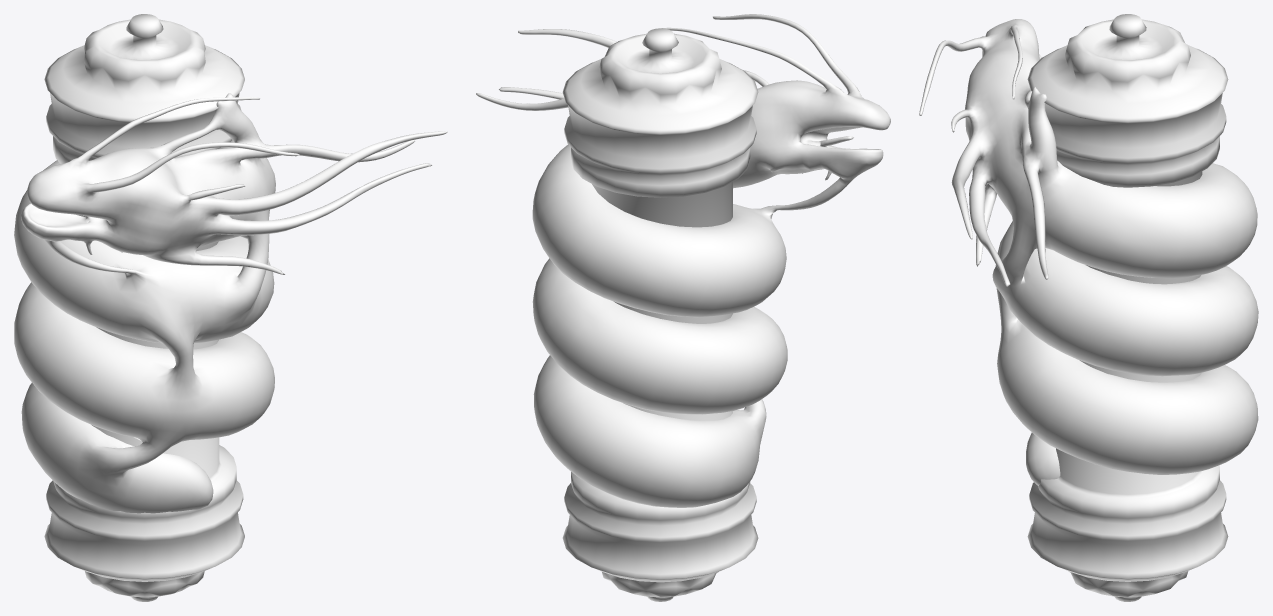
The model's file is doragon.obj.
3 renders of one model, left to right at view 1: azimuth 30°, elevation 25°; view 2: azimuth 150°, elevation 25°; view 3: azimuth 270°, elevation 25°, orthographic. The views are drawn at different scales.
Parts seen in each view (by area): view 1: Drugon.001; view 2: Drugon.001; view 3: Drugon.001.
Boxes of the visible parts, left/top/right/bottom form: Drugon.001: left=14, top=14, right=447, bottom=601; Drugon.001: left=476, top=14, right=890, bottom=601; Drugon.001: left=919, top=14, right=1258, bottom=601.
Bounding box in the file's own units: 1.92 × 2.63 × 1.4.
Materials: 1 (1 with a texture image).
